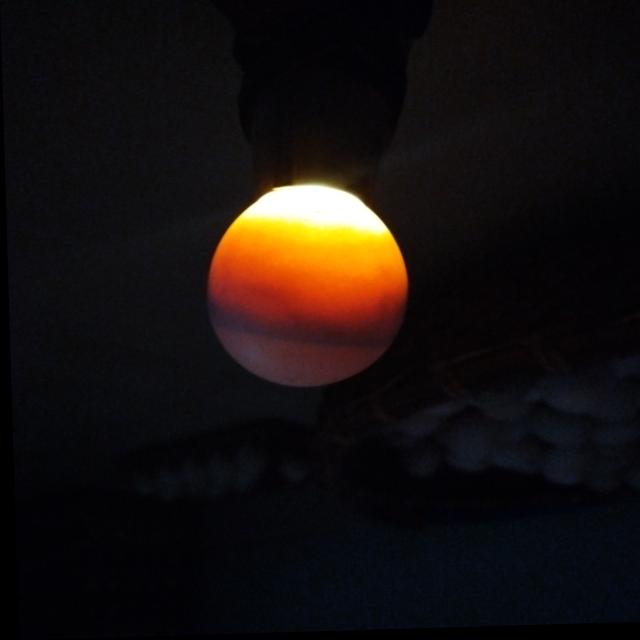Area Infectada: (199, 291, 406, 352)
